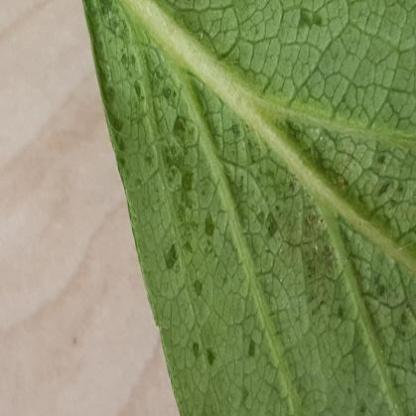Strawberry_Angular_LeafSpot: (82, 0, 415, 415)
